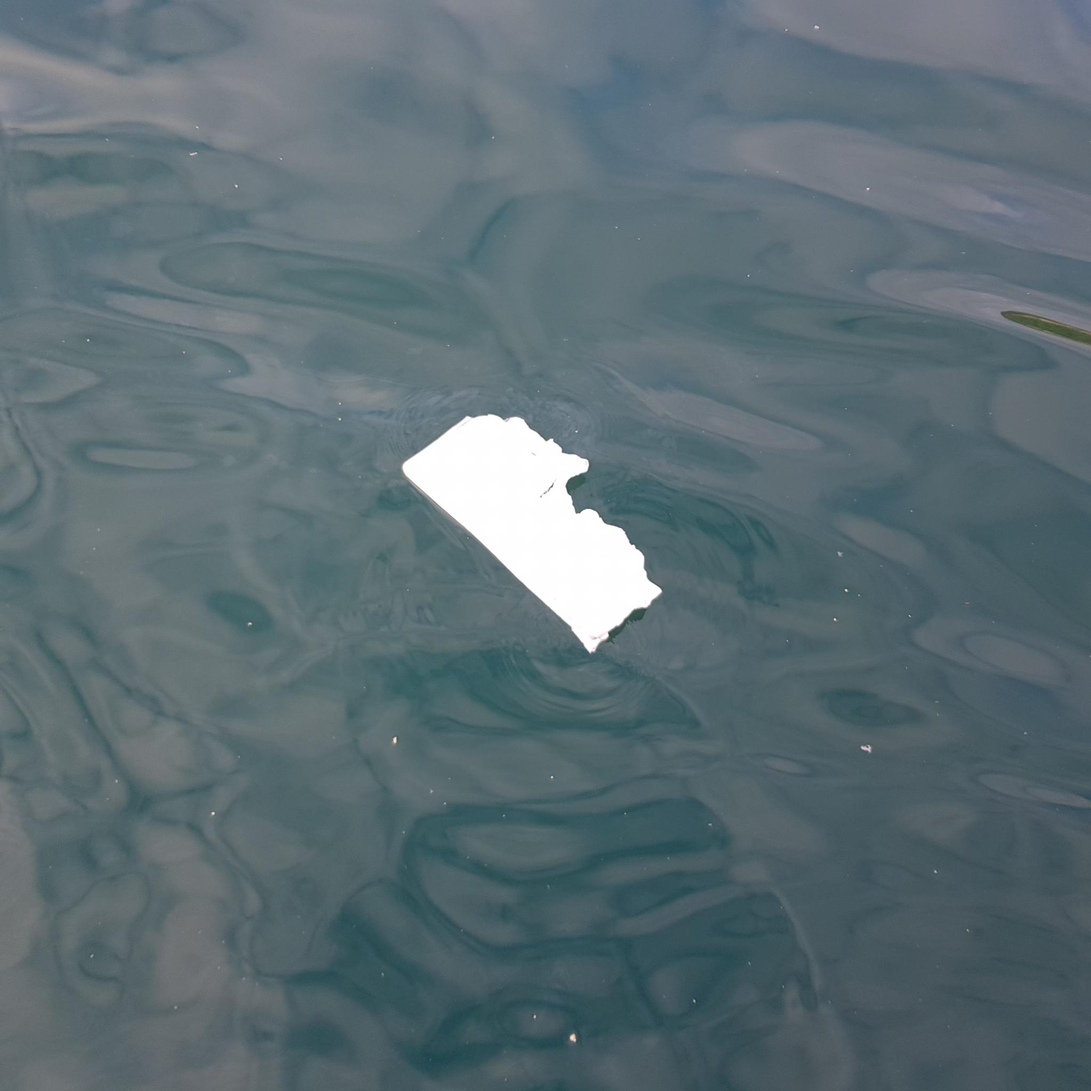sampah_terapung: (402, 415, 664, 654)
